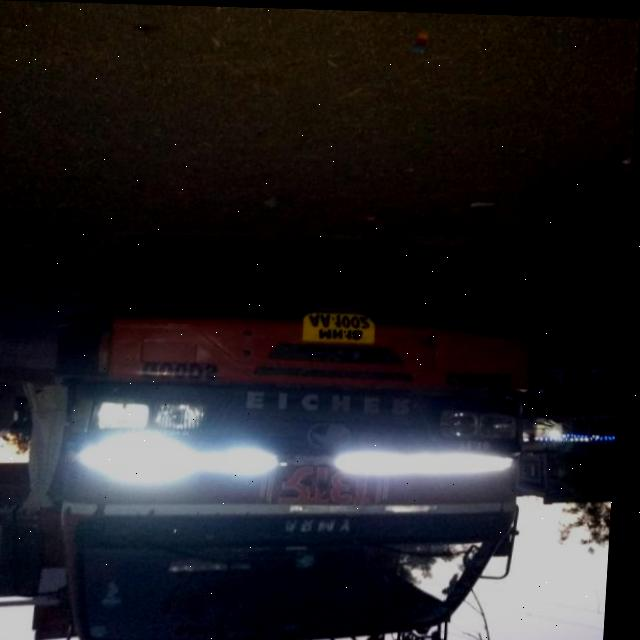plate: (303, 309, 381, 344)
